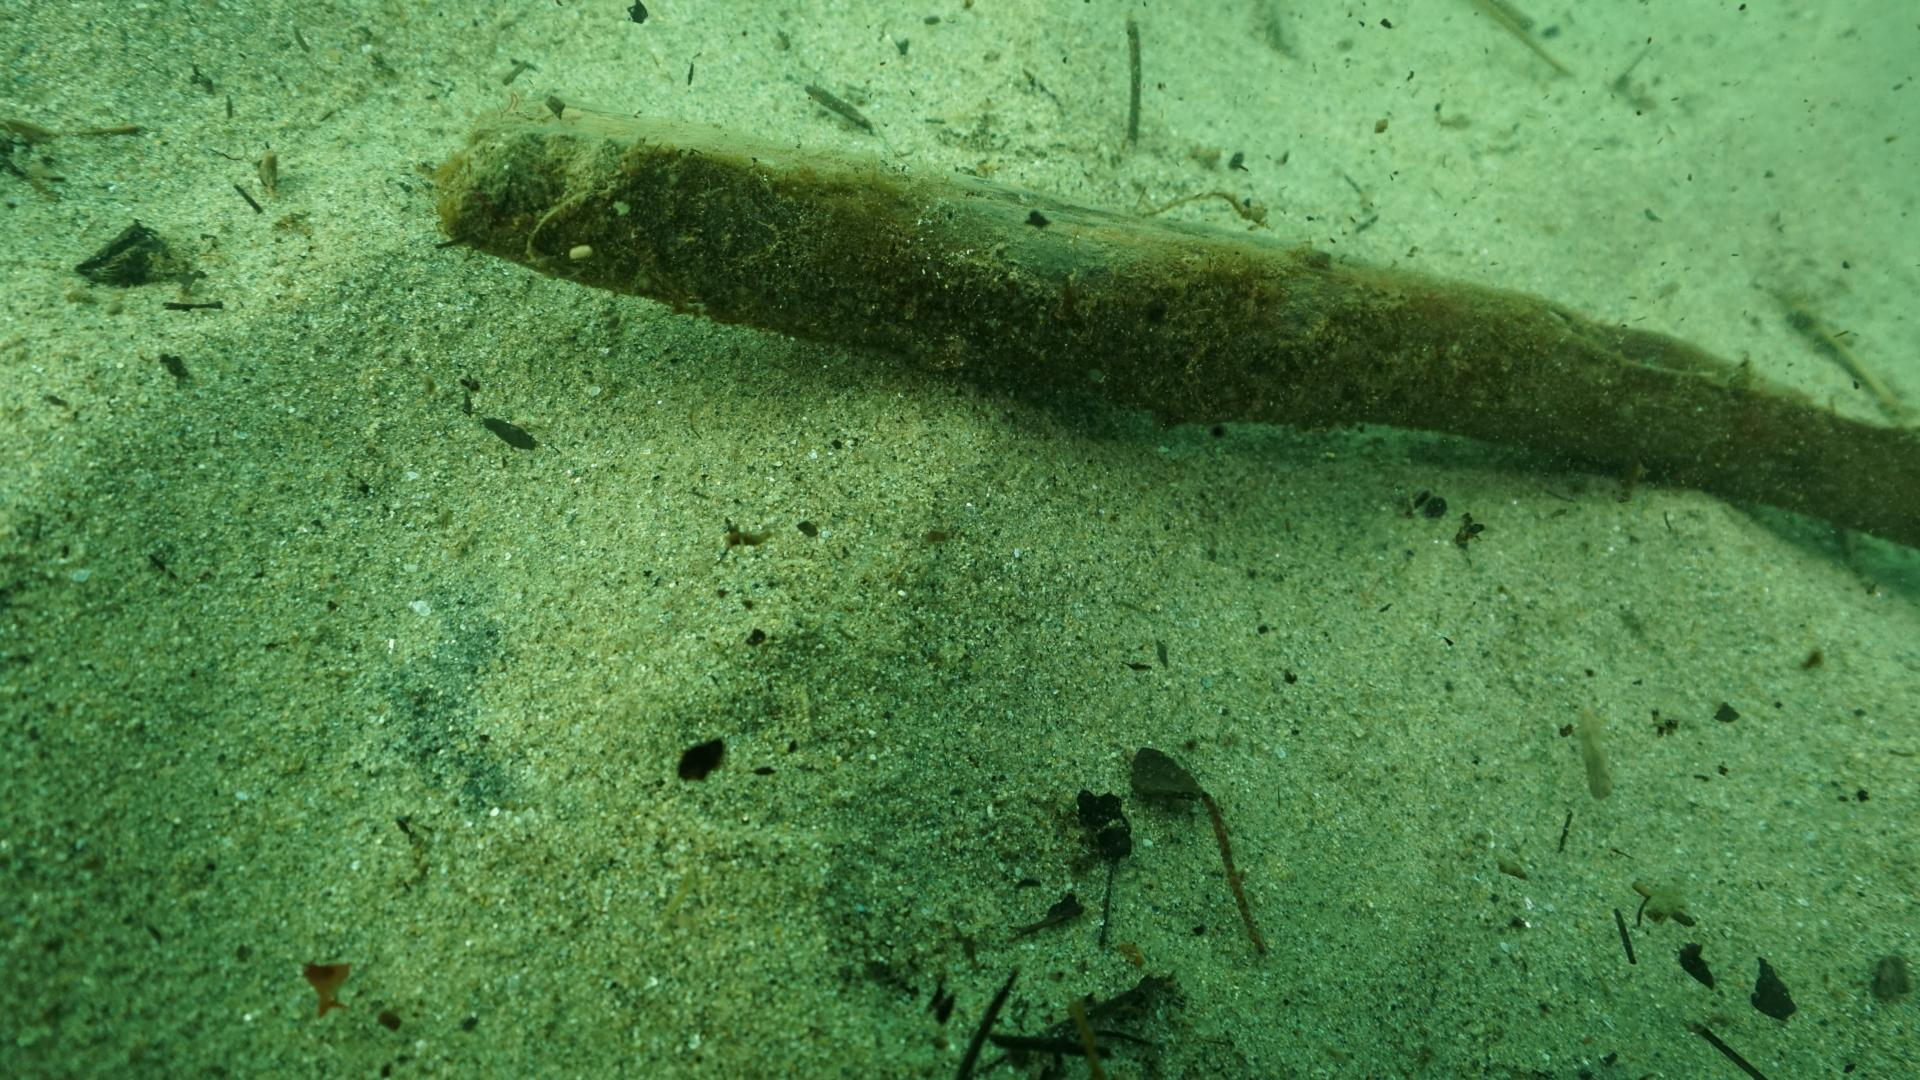wood: (440, 91, 1920, 554)
